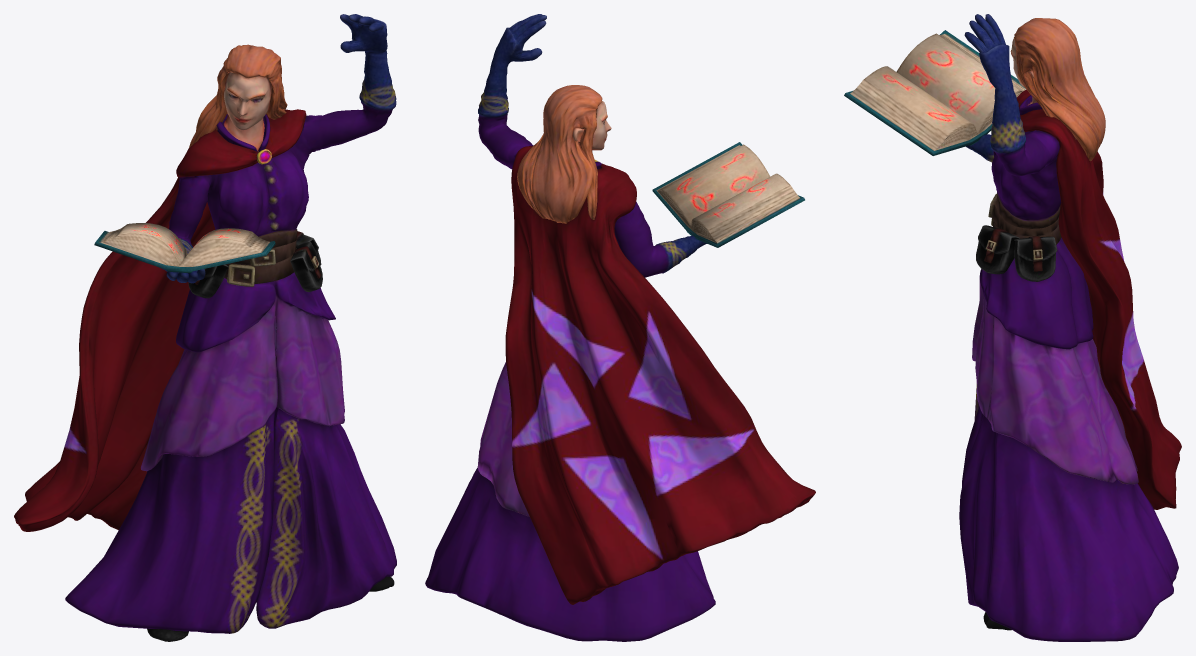
The model's file is MZ4250 - Arch Mage Female V2.glb.
The picture shows the model from 3 angles, left to right: view 1: azimuth 30°, elevation 25°; view 2: azimuth 150°, elevation 25°; view 3: azimuth 270°, elevation 25°; orthographic projection. The views are drawn at different scales.
Visible parts, largest first — view 1: Arch Mage Female.001; view 2: Arch Mage Female.001; view 3: Arch Mage Female.001.
Part boxes in pixels (x1,y1,x2,y2): Arch Mage Female.001: (14, 14, 396, 641); Arch Mage Female.001: (425, 14, 815, 641); Arch Mage Female.001: (844, 14, 1181, 641).
Bounding box in the file's own units: 27.92 × 40.9 × 20.86.
Materials: 1 (1 with a texture image).
